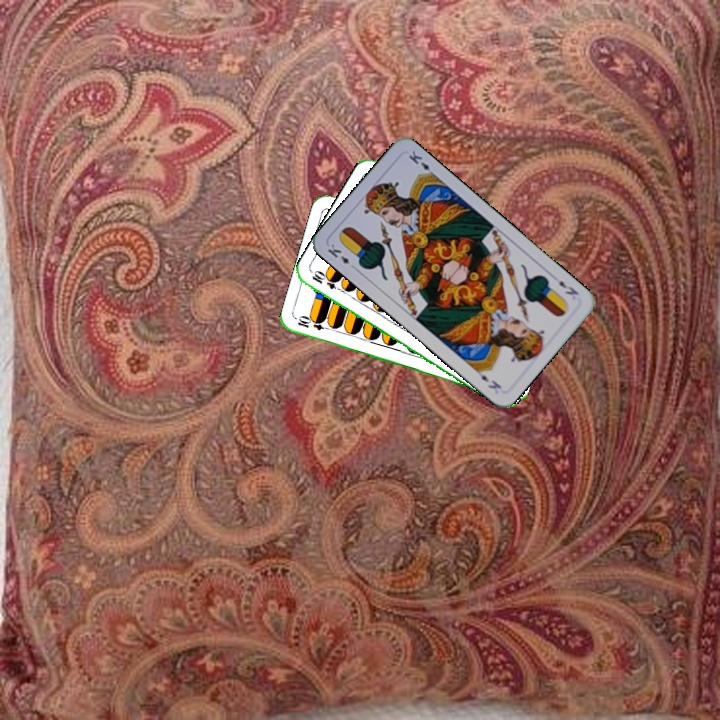E10: (308, 268, 346, 295), (294, 313, 334, 333)
EK: (323, 240, 359, 272), (555, 276, 581, 298)
